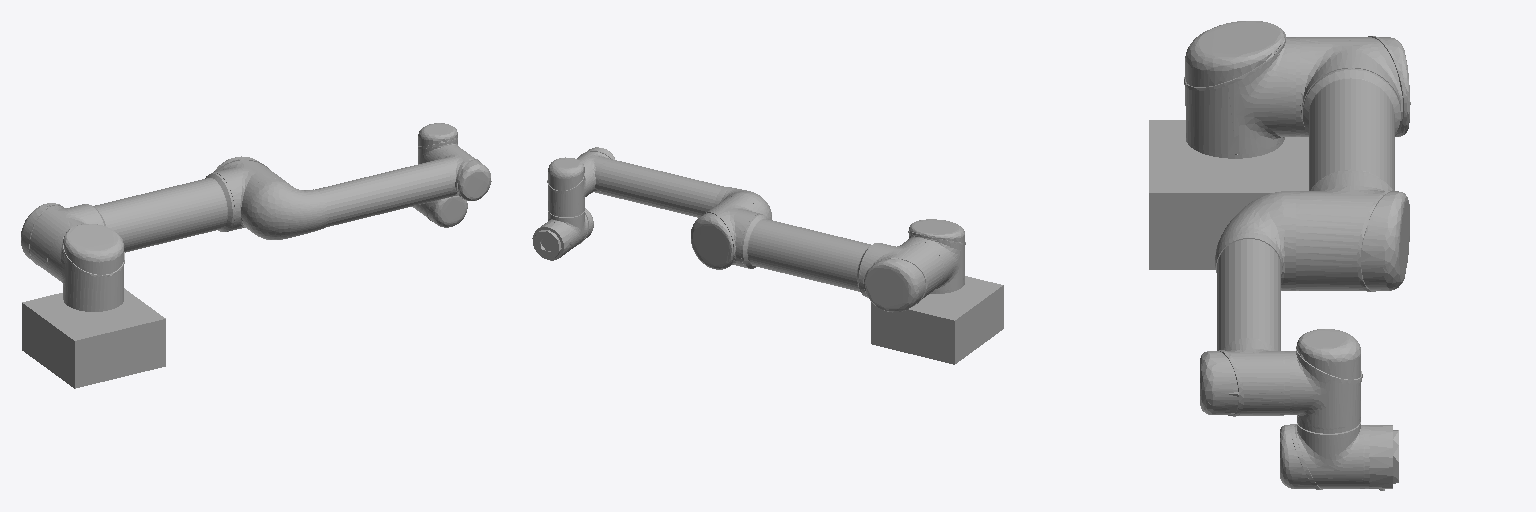
robot.urdf — universal_robot:
<?xml version="1.0" ?>
<!--FOR GRIPPER, THERE IS NO LINK INERTIA DEFINED HERE-->
<robot name="universal_robot">
  <link name="world">
    <visual>
      <origin rpy="0 0 0" xyz="0 0 0.05"/>
      <geometry>
        <box size="0.2 0.2 0.1"/>
      </geometry>
      <material name="LightGrey">
        <color rgba="0.7 0.7 0.7 1.0"/>
      </material>
    </visual>
    <collision>
      <origin rpy="0 0 0" xyz="0 0 0.05"/>
      <geometry>
        <box size="0.2 0.2 0.1"/>
      </geometry>
    </collision>
  </link>
  <joint name="ur5_joint_world" type="fixed">
    <parent link="world"/>
    <child link="base_link"/>
    <origin rpy="0 0 0" xyz="0 0 0.1"/>
  </joint>

  <link name="base_link">
    <visual>
      <geometry>
        <mesh filename="meshes/ur5/visual/base.obj"/>
      </geometry>
      <material name="LightGrey">
        <color rgba="0.7 0.7 0.7 1.0"/>
      </material>
    </visual>
    <collision>
      <geometry>
        <mesh filename="meshes/ur5/collision/base.stl"/>
      </geometry>
    </collision>
    <inertial>
      <mass value="4.0"/>
      <origin rpy="0 0 0" xyz="0.0 0.0 0.0"/>
      <inertia ixx="0.00443333156" ixy="0.0" ixz="0.0" iyy="0.00443333156" iyz="0.0" izz="0.0072"/>
    </inertial>
  </link>

  <joint name="shoulder_pan_joint" type="revolute">
    <parent link="base_link"/>
    <child link="shoulder_link"/>
    <origin rpy="0.0 0.0 0.0" xyz="0.0 0.0 0.089159"/>
    <axis xyz="0 0 1"/>
    <limit effort="150.0" lower="-6.28318530718" upper="6.28318530718" velocity="3.15" acceleration="10"/>
    <dynamics damping="0.0" friction="0.0"/>
  </joint>
  <link name="shoulder_link">
    <visual>
      <geometry>
        <mesh filename="meshes/ur5/visual/shoulder.obj"/>
      </geometry>
      <material name="LightGrey">
        <color rgba="0.7 0.7 0.7 1.0"/>
      </material>
    </visual>
    <collision>
      <geometry>
        <mesh filename="meshes/ur5/collision/shoulder.stl"/>
      </geometry>
    </collision>
    <inertial>
      <mass value="3.7"/>
      <origin rpy="0 0 0" xyz="0.0 0.0 0.0"/>
      <inertia ixx="0.010267495893" ixy="0.0" ixz="0.0" iyy="0.010267495893" iyz="0.0" izz="0.00666"/>
    </inertial>
  </link>
  <joint name="shoulder_lift_joint" type="revolute">
    <parent link="shoulder_link"/>
    <child link="upper_arm_link"/>
    <origin rpy="0.0 1.57079632679 0.0" xyz="0.0 0.13585 0.0"/>
    <axis xyz="0 1 0"/>
    <limit effort="150.0" lower="-6.28318530718" upper="6.28318530718" velocity="3.15" acceleration="10"/>
    <dynamics damping="0.0" friction="0.0"/>
  </joint>
  <link name="upper_arm_link">
    <visual>
      <geometry>
        <mesh filename="meshes/ur5/visual/upperarm.obj"/>
      </geometry>
      <material name="LightGrey">
        <color rgba="0.7 0.7 0.7 1.0"/>
      </material>
    </visual>
    <collision>
      <geometry>
        <mesh filename="meshes/ur5/collision/upperarm.stl"/>
      </geometry>
    </collision>
    <inertial>
      <mass value="8.393"/>
      <origin rpy="0 0 0" xyz="0.0 0.0 0.28"/>
      <inertia ixx="0.22689067591" ixy="0.0" ixz="0.0" iyy="0.22689067591" iyz="0.0" izz="0.0151074"/>
    </inertial>
  </link>
  <joint name="elbow_joint" type="revolute">
    <parent link="upper_arm_link"/>
    <child link="forearm_link"/>
    <origin rpy="0.0 0.0 0.0" xyz="0.0 -0.1197 0.425"/>
    <axis xyz="0 1 0"/>
    <limit effort="150.0" lower="-3.14159265359" upper="3.14159265359" velocity="3.15" acceleration="10"/>
    <dynamics damping="0.0" friction="0.0"/>
  </joint>
  <link name="forearm_link">
    <visual>
      <geometry>
        <mesh filename="meshes/ur5/visual/forearm.obj"/>
      </geometry>
      <material name="LightGrey">
        <color rgba="0.7 0.7 0.7 1.0"/>
      </material>
    </visual>
    <collision>
      <geometry>
        <mesh filename="meshes/ur5/collision/forearm.stl"/>
      </geometry>
    </collision>
    <inertial>
      <mass value="2.275"/>
      <origin rpy="0 0 0" xyz="0.0 0.0 0.25"/>
      <inertia ixx="0.049443313556" ixy="0.0" ixz="0.0" iyy="0.049443313556" iyz="0.0" izz="0.004095"/>
    </inertial>
  </link>
  <joint name="wrist_1_joint" type="revolute">
    <parent link="forearm_link"/>
    <child link="wrist_1_link"/>
    <origin rpy="0.0 1.57079632679 0.0" xyz="0.0 0.0 0.39225"/>
    <axis xyz="0 1 0"/>
    <limit effort="28.0" lower="-6.28318530718" upper="6.28318530718" velocity="3.2" acceleration="10"/>
    <dynamics damping="0.0" friction="0.0"/>
  </joint>
  <link name="wrist_1_link">
    <visual>
      <geometry>
        <mesh filename="meshes/ur5/visual/wrist1.obj"/>
      </geometry>
      <material name="LightGrey">
        <color rgba="0.7 0.7 0.7 1.0"/>
      </material>
    </visual>
    <collision>
      <geometry>
        <mesh filename="meshes/ur5/collision/wrist1.stl"/>
      </geometry>
    </collision>
    <inertial>
      <mass value="1.219"/>
      <origin rpy="0 0 0" xyz="0.0 0.0 0.0"/>
      <inertia ixx="0.111172755531" ixy="0.0" ixz="0.0" iyy="0.111172755531" iyz="0.0" izz="0.21942"/>
    </inertial>
  </link>
  <joint name="wrist_2_joint" type="revolute">
    <parent link="wrist_1_link"/>
    <child link="wrist_2_link"/>
    <origin rpy="0.0 0.0 0.0" xyz="0.0 0.093 0.0"/>
    <axis xyz="0 0 1"/>
    <limit effort="28.0" lower="-6.28318530718" upper="6.28318530718" velocity="3.2" acceleration="10"/>
    <dynamics damping="0.0" friction="0.0"/>
  </joint>
  <link name="wrist_2_link">
    <visual>
      <geometry>
        <mesh filename="meshes/ur5/visual/wrist2.obj"/>
      </geometry>
      <material name="LightGrey">
        <color rgba="0.7 0.7 0.7 1.0"/>
      </material>
    </visual>
    <collision>
      <geometry>
        <mesh filename="meshes/ur5/collision/wrist2.stl"/>
      </geometry>
    </collision>
    <inertial>
      <mass value="1.219"/>
      <origin rpy="0 0 0" xyz="0.0 0.0 0.0"/>
      <inertia ixx="0.111172755531" ixy="0.0" ixz="0.0" iyy="0.111172755531" iyz="0.0" izz="0.21942"/>
    </inertial>
  </link>
  <joint name="wrist_3_joint" type="revolute">
    <parent link="wrist_2_link"/>
    <child link="wrist_3_link"/>
    <origin rpy="0.0 0.0 0.0" xyz="0.0 0.0 0.09465"/>
    <axis xyz="0 1 0"/>
    <limit effort="28.0" lower="-6.28318530718" upper="6.28318530718" velocity="3.2" acceleration="10"/>
    <dynamics damping="0.0" friction="0.0"/>
  </joint>
  <link name="wrist_3_link">
    <visual>
      <geometry>
        <mesh filename="meshes/ur5/visual/wrist3.obj"/>
      </geometry>
      <material name="LightGrey">
        <color rgba="0.7 0.7 0.7 1.0"/>
      </material>
    </visual>
    <collision>
      <geometry>
        <mesh filename="meshes/ur5/collision/wrist3.stl"/>
      </geometry>
    </collision>
    <inertial>
      <mass value="0.1879"/>
      <origin rpy="0 0 0" xyz="0.0 0.0 0.0"/>
      <inertia ixx="0.0171364731454" ixy="0.0" ixz="0.0" iyy="0.0171364731454" iyz="0.0" izz="0.033822"/>
    </inertial>
  </link>
  <joint name="ee_fixed_joint" type="fixed">
    <parent link="wrist_3_link"/>
    <child link="ee_link"/>
    <origin rpy="0.0 0.0 1.57079632679" xyz="0.0 0.0823 0.0"/>
  </joint>
  <link name="ee_link">
    <collision>
      <geometry>
        <box size="0.01 0.01 0.01"/>
      </geometry>
      <origin rpy="0 0 0" xyz="-0.01 0 0"/>
    </collision>
  </link>

</robot>

--- Facts derived from the render (not from the file) ---
3 views of the same robot in one strip: view 1: azimuth 30°, elevation 25°; view 2: azimuth 150°, elevation 25°; view 3: azimuth 270°, elevation 25° (orthographic).
Model universal_robot with 9 links and 8 joints (6 revolute, 2 fixed), rooted at world, posed every joint at zero.
Visible links, largest first — view 1: upper_arm_link, forearm_link, world, shoulder_link, wrist_1_link, wrist_2_link; view 2: upper_arm_link, world, forearm_link, shoulder_link, wrist_1_link, wrist_3_link, wrist_2_link; view 3: upper_arm_link, forearm_link, world, shoulder_link, wrist_1_link, wrist_2_link, wrist_3_link.
Link boxes in pixels (left/top/right/bottom): upper_arm_link: left=21, top=156, right=284, bottom=275; forearm_link: left=243, top=146, right=491, bottom=239; world: left=22, top=288, right=165, bottom=388; shoulder_link: left=49, top=224, right=124, bottom=311; wrist_1_link: left=418, top=123, right=458, bottom=163; wrist_2_link: left=412, top=196, right=467, bottom=227; upper_arm_link: left=691, top=196, right=943, bottom=312; world: left=871, top=276, right=1003, bottom=364; forearm_link: left=577, top=147, right=771, bottom=219; shoulder_link: left=907, top=219, right=965, bottom=293; wrist_1_link: left=547, top=157, right=592, bottom=216; wrist_3_link: left=532, top=222, right=570, bottom=260; wrist_2_link: left=545, top=208, right=593, bottom=251; upper_arm_link: left=1296, top=36, right=1410, bottom=291; forearm_link: left=1200, top=191, right=1295, bottom=416; world: left=1149, top=120, right=1308, bottom=269; shoulder_link: left=1184, top=21, right=1295, bottom=158; wrist_1_link: left=1290, top=329, right=1362, bottom=433; wrist_2_link: left=1280, top=422, right=1369, bottom=489; wrist_3_link: left=1369, top=425, right=1398, bottom=490.
Bounding box of the posed robot: 0.9562 × 0.3045 × 0.2577 m (x, y, z).
6 mesh visuals loaded from 7 distinct referenced files (6 OBJ); not drawn: 1 (reference not matched to a file when rendering).